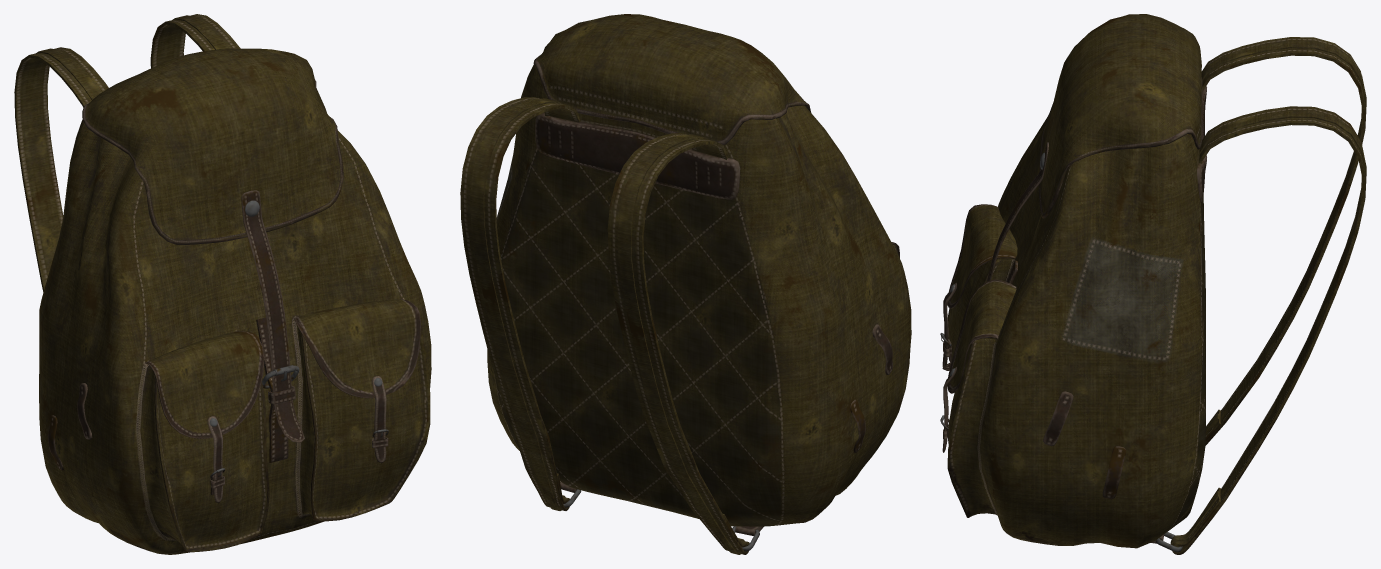
File: old_soviet_backpack.glb
The picture shows the model from 3 angles, left to right: view 1: azimuth 30°, elevation 25°; view 2: azimuth 150°, elevation 25°; view 3: azimuth 270°, elevation 25°; orthographic projection. The views are drawn at different scales.
Parts seen in each view (by area): view 1: bag_r_low; view 2: bag_r_low; view 3: bag_r_low.
Boxes of the visible parts, <box> form: bag_r_low: <box>14,14,431,554</box>; bag_r_low: <box>460,14,911,554</box>; bag_r_low: <box>940,14,1366,554</box>.
Size of the model in its own units: 3.54 by 4.51 by 3.73.
Materials: 1 (1 with a texture image).
